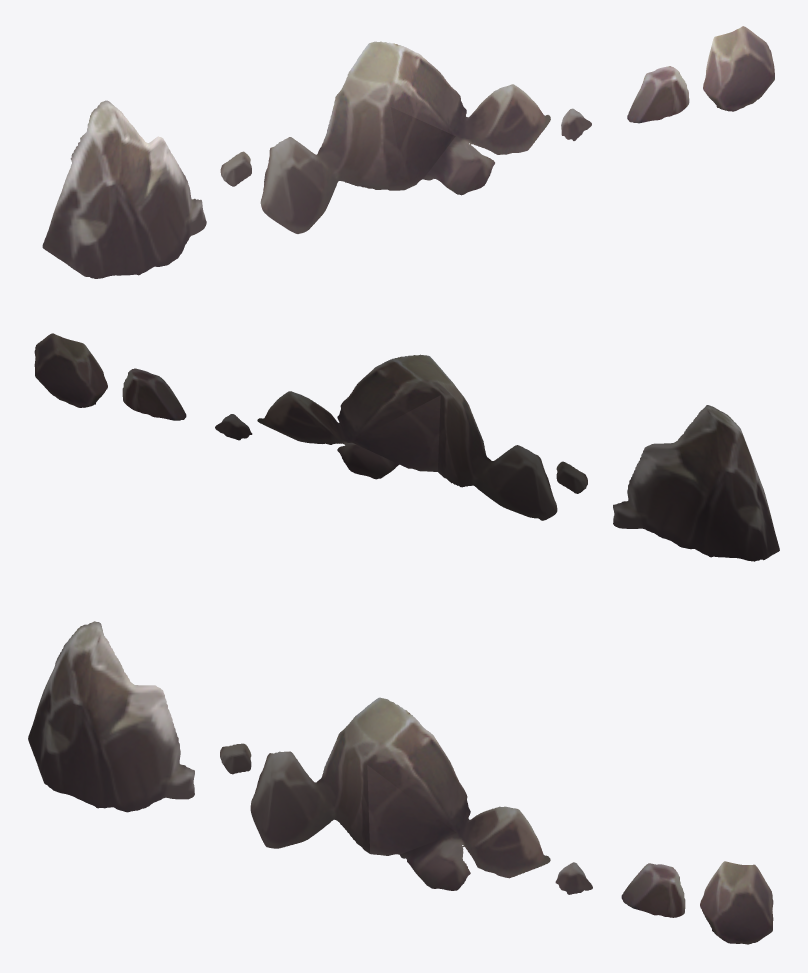
Rendered from Cave Rocks.FBX.
3 renders of one model, top to bottom at view 1: azimuth 30°, elevation 25°; view 2: azimuth 150°, elevation 25°; view 3: azimuth 330°, elevation 25°, orthographic. The views are drawn at different scales.
Parts seen in each view (by area): view 1: Cave Rock 1, Cave Rock 2, Cave Rock 3; view 2: Cave Rock 1, Cave Rock 2, Cave Rock 3; view 3: Cave Rock 1, Cave Rock 2, Cave Rock 3.
Part boxes in pixels (bbox=[...]): Cave Rock 1: bbox=[220, 41, 591, 233]; Cave Rock 2: bbox=[42, 100, 206, 278]; Cave Rock 3: bbox=[627, 26, 774, 123]; Cave Rock 1: bbox=[215, 354, 587, 520]; Cave Rock 2: bbox=[613, 405, 779, 561]; Cave Rock 3: bbox=[34, 333, 186, 420]; Cave Rock 1: bbox=[220, 697, 592, 894]; Cave Rock 2: bbox=[28, 621, 194, 812]; Cave Rock 3: bbox=[621, 861, 773, 944].
Size of the model in its own units: 612 by 37.06 by 144.
